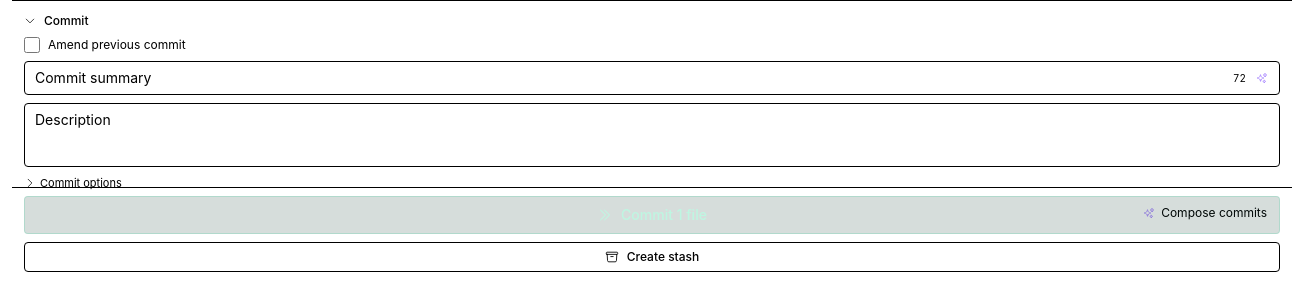
CommitPanel › enables GPG signing from repository config
This screenshot has width=1304, height=289.
Click the button "Commit options". click: (81, 183)
box: 24,175 -> 1280,192
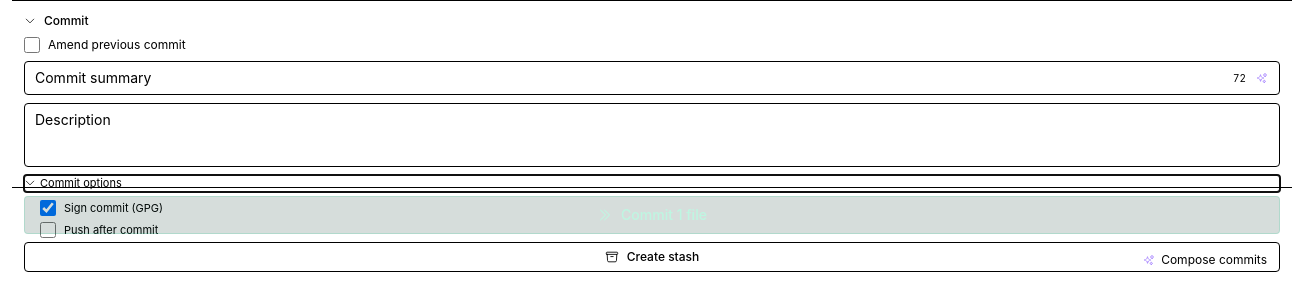
Expected: the checkbox labelled "Sign commit (GPG)" is checked, 40,200 -> 56,216
